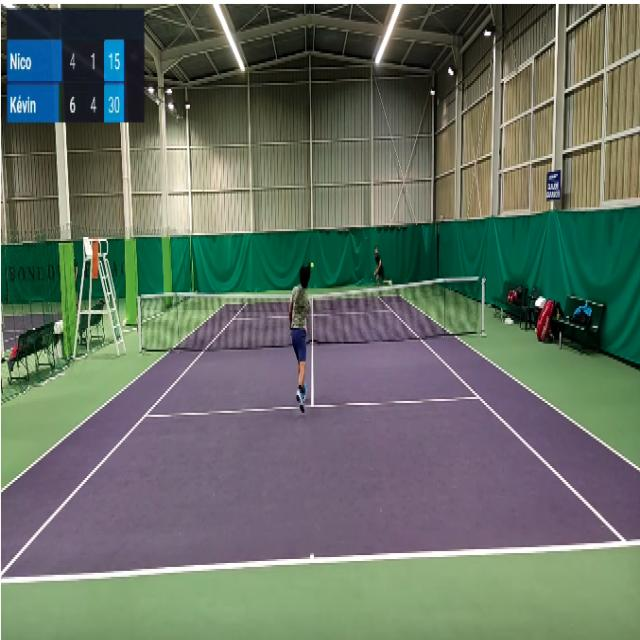ball: (310, 261, 314, 270)
